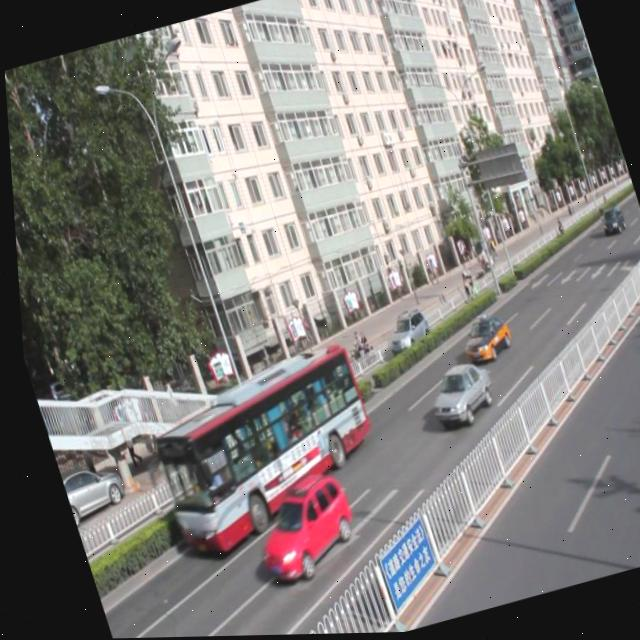car: (235, 467, 356, 585), (414, 357, 495, 433), (450, 310, 511, 369), (374, 305, 430, 358)
van: (132, 344, 389, 562)
